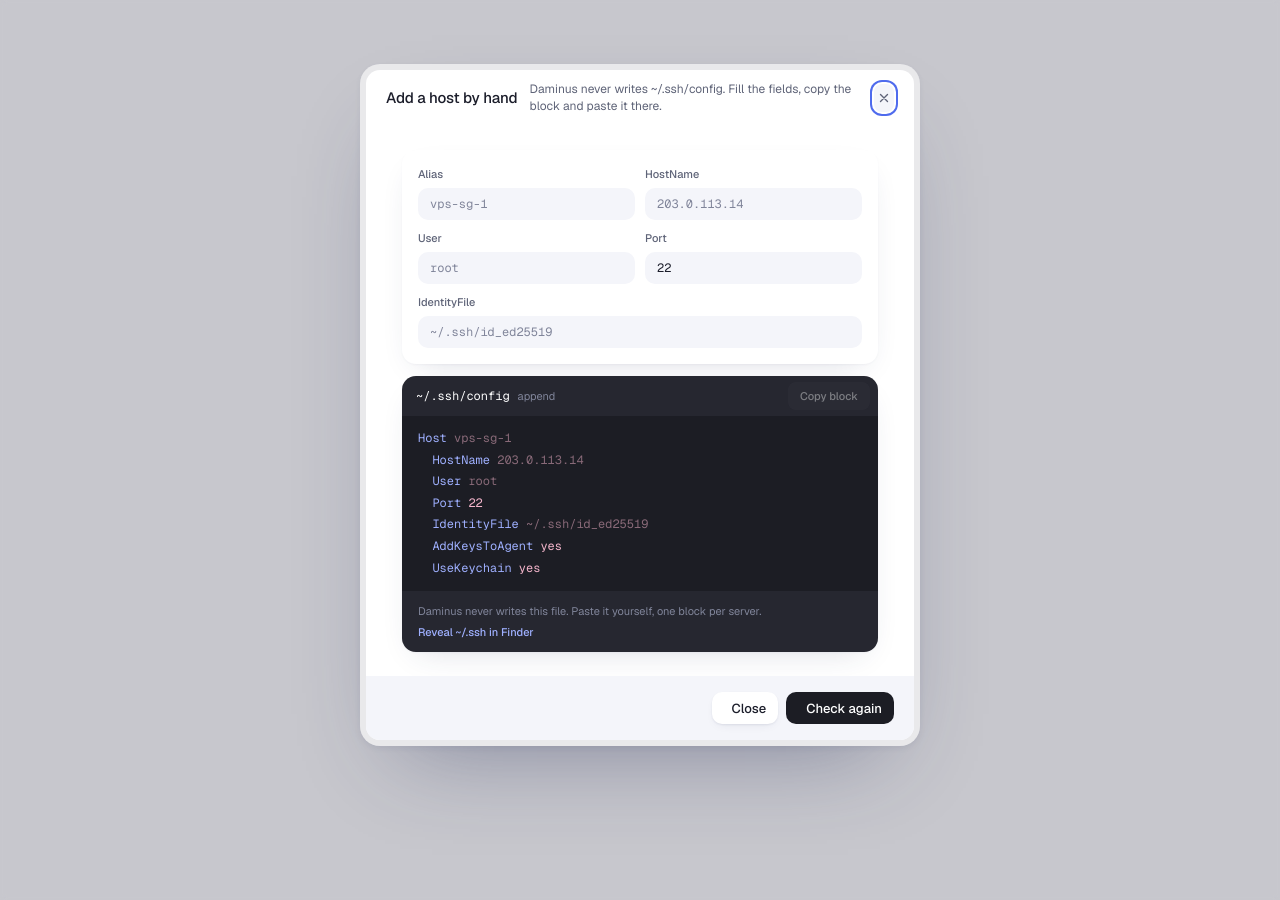
Test case: AddHostSheet › says which line ssh refused after Check again, inside the sheet
Step 1. Click the button "Check again" → (840, 708), box [786, 692, 894, 724]
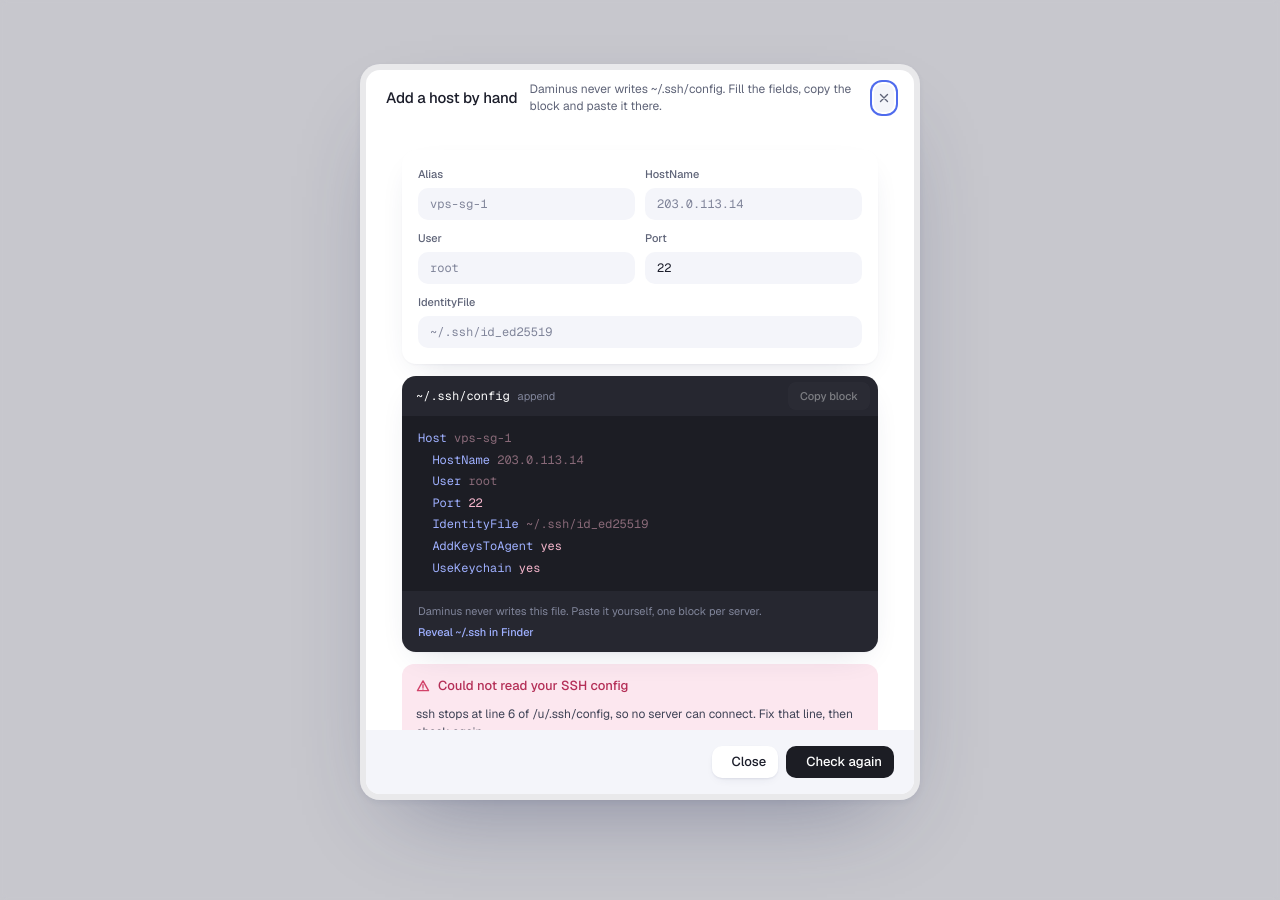
Expected: the message shows "Could not read your SSH config", [438, 677, 628, 694]
Expected: the message shows "ssh stops at line 6 of /u/.ssh/config", [416, 706, 853, 730]
